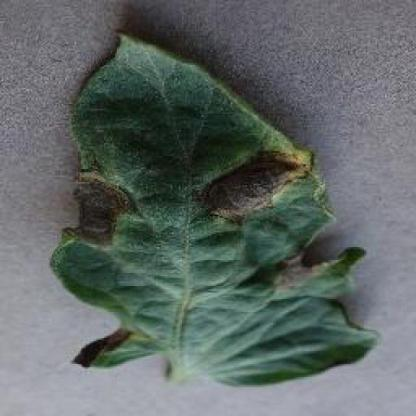Tomato_Blight: (51, 32, 379, 375)
